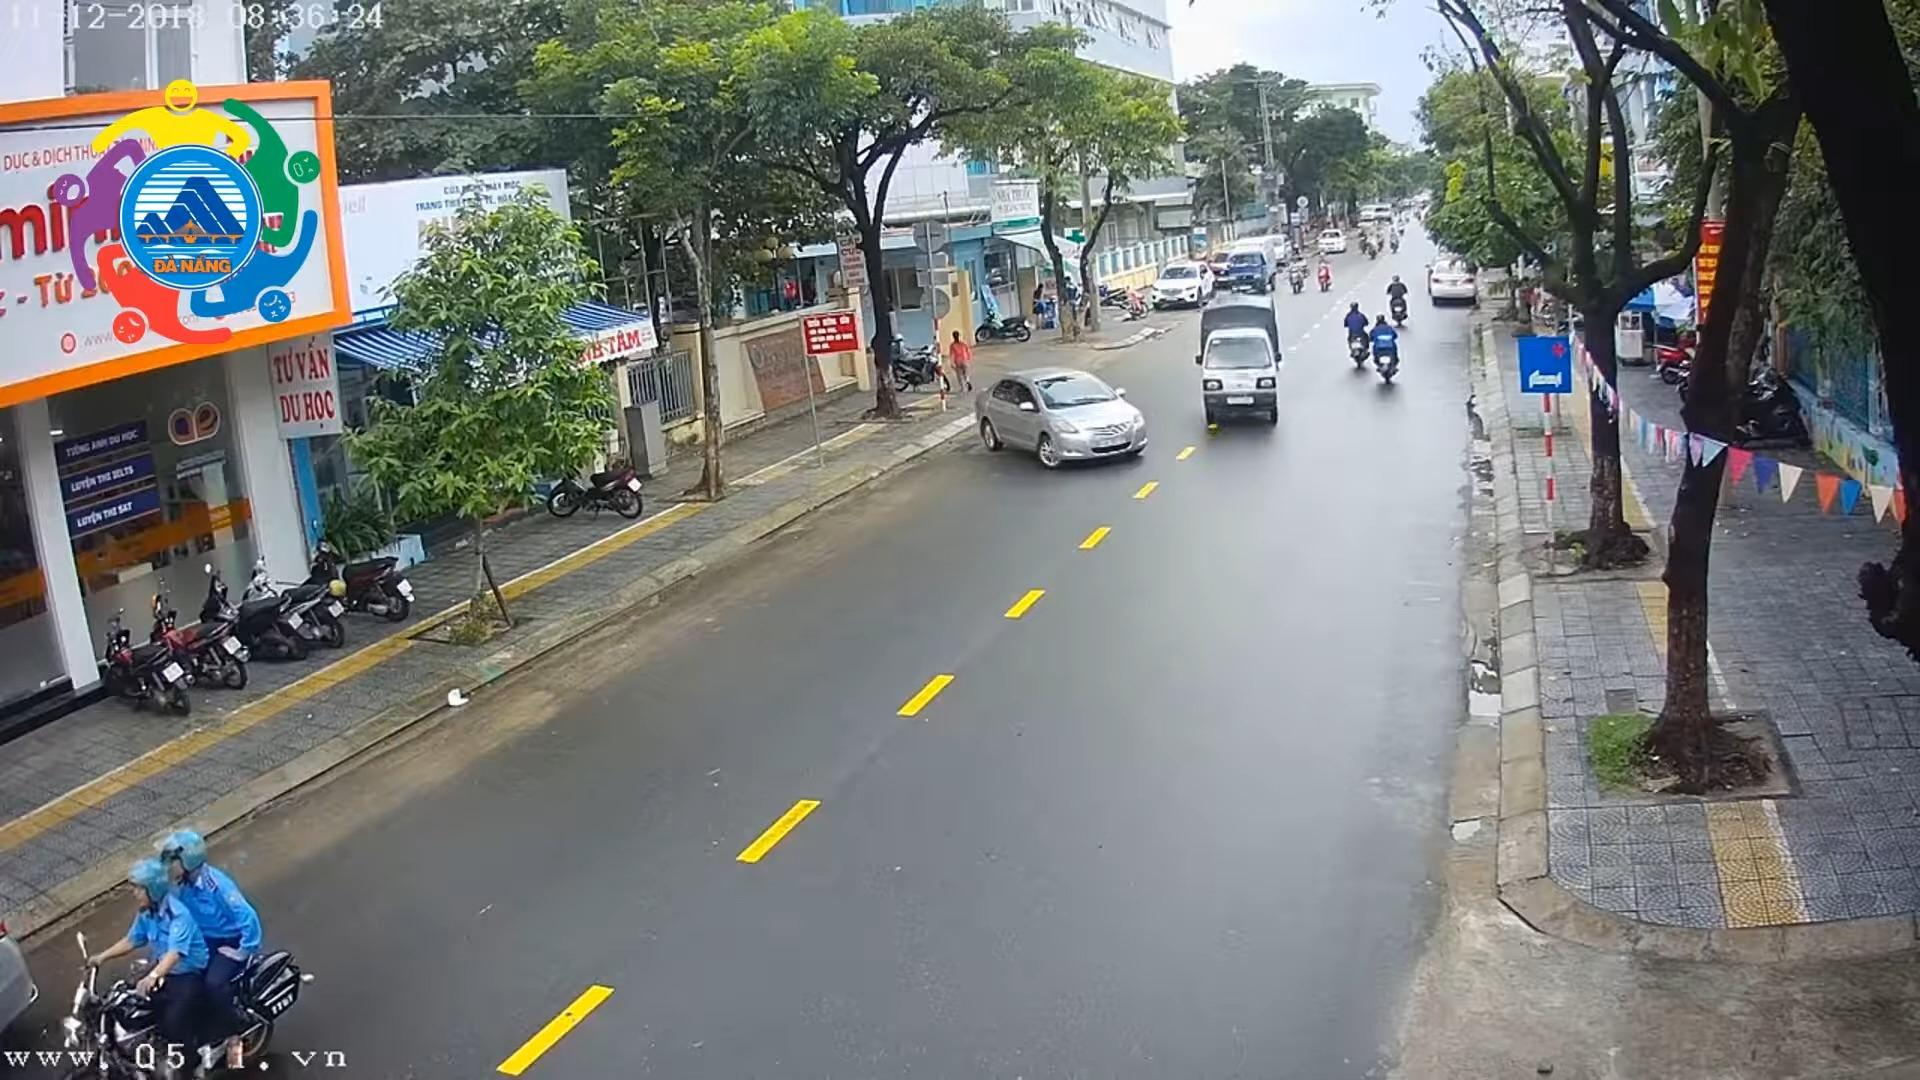car: (978, 365, 1146, 467), (1150, 258, 1215, 311), (1428, 252, 1481, 311), (1319, 225, 1346, 255)
motorcycle: (58, 825, 311, 1080), (146, 588, 249, 698), (200, 562, 307, 666), (100, 608, 193, 721), (245, 551, 348, 653), (313, 527, 415, 626), (546, 450, 647, 524), (881, 343, 953, 401), (973, 305, 1033, 347), (1374, 314, 1400, 389), (1342, 302, 1370, 369), (1386, 276, 1410, 327), (1287, 247, 1308, 295), (1316, 249, 1335, 295), (1366, 231, 1379, 261), (1389, 224, 1400, 253)
truck: (1201, 290, 1280, 438), (1225, 240, 1278, 298)
